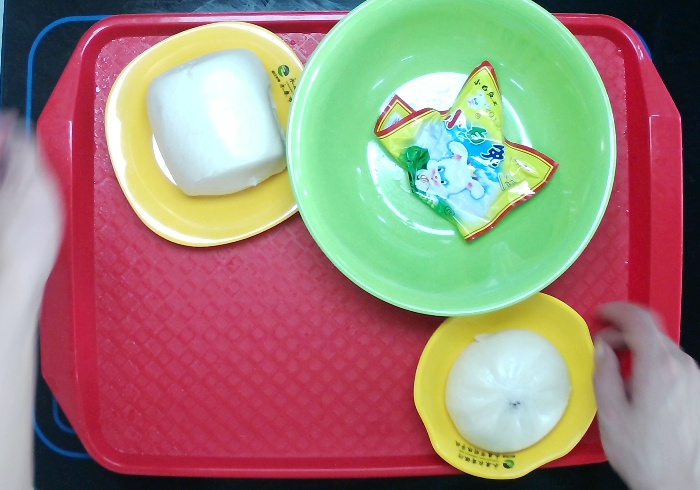YKMZ-Huang_Se_Ao_Bian_Wan: (409, 289, 606, 485)
YKMZ-Huang_Se_Fang_Die: (103, 18, 308, 251)
YKMZ-Lv_Se_Tang_Wan: (281, 1, 620, 320)
